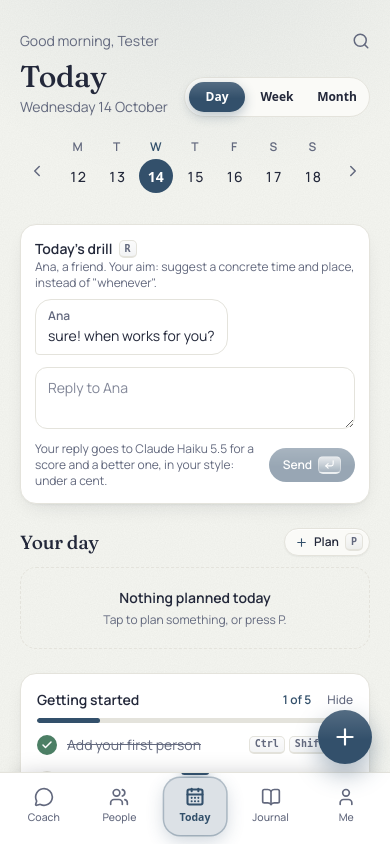
a conversation in person › I switches back to a chat, and the chat box is as it was
Click the button "Coach": point(44, 807) [6,781,82,832]
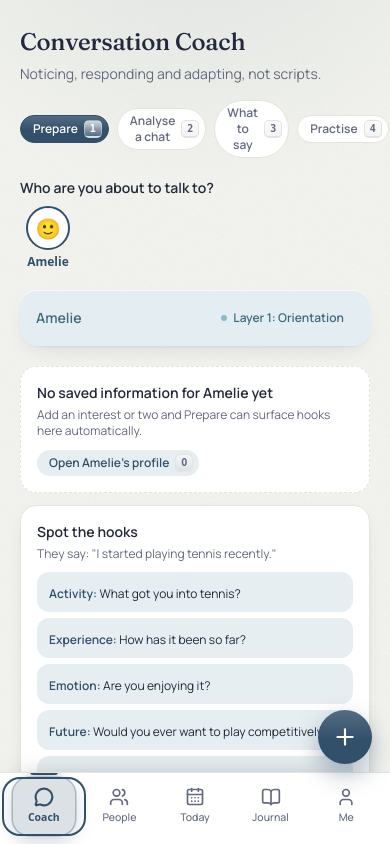
Click the button "Analyse a chat 2": point(162, 129) [117,108,206,150]
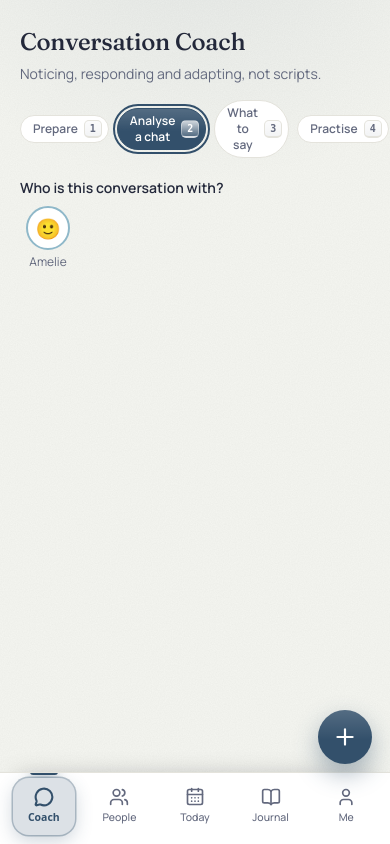
Click the button "🙂 Amelie": point(48, 238) [20,206,76,270]
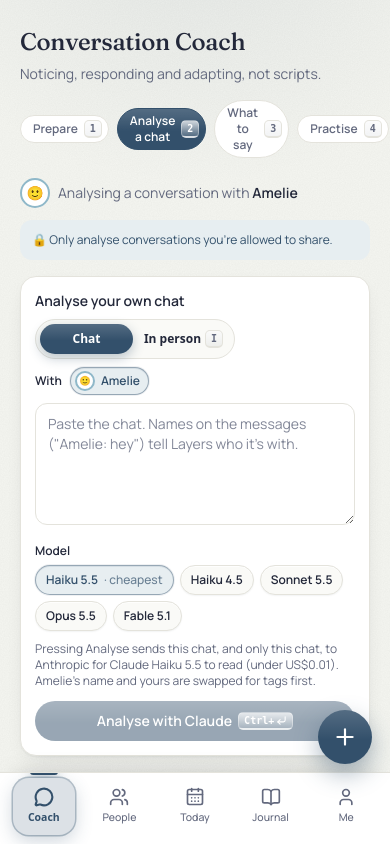
Type keys "i"
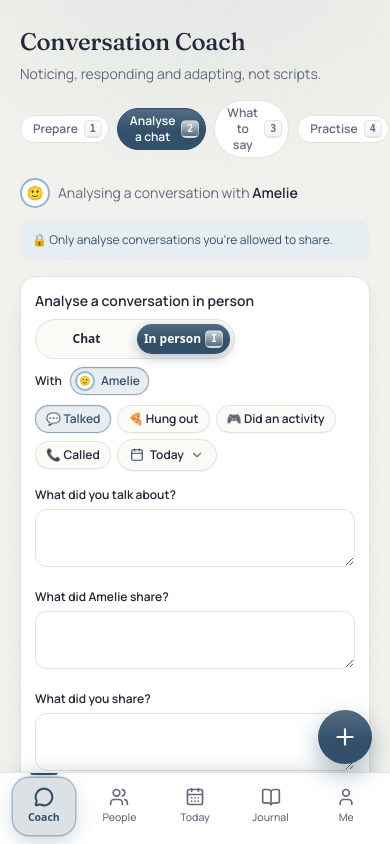
Expected: the button "In person I" is shown, [137,324,230,354]
Type keys "i"
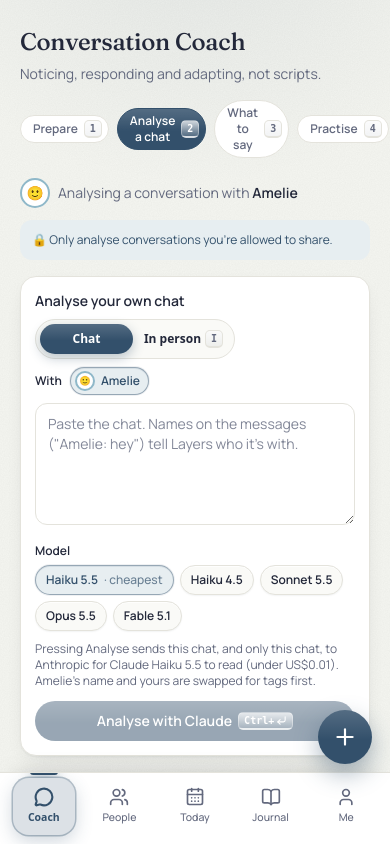
Expected: the text box labelled "the chat" is shown, [35,403,355,525]
Expected: the text labelled "What did you talk about?" is gone
